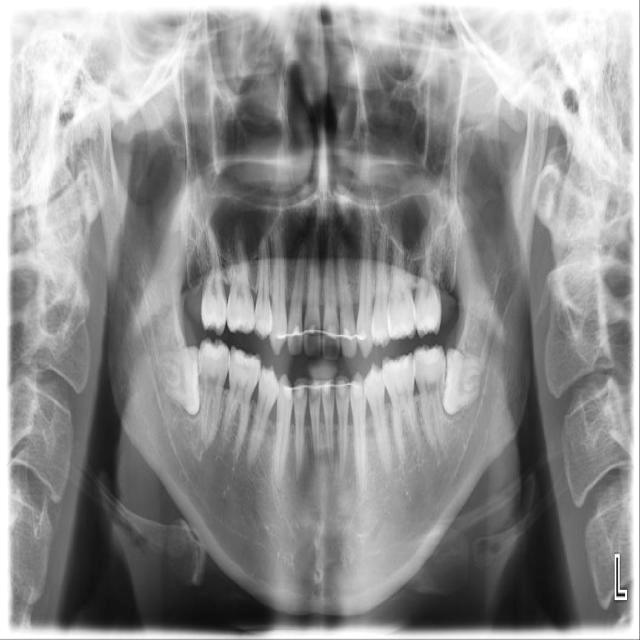impacted tooth: (152, 345, 204, 415), (444, 346, 489, 416)
